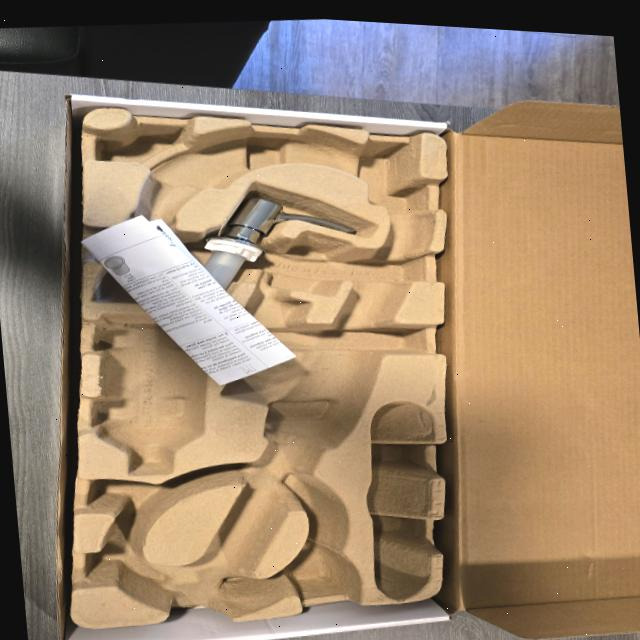1m: (100, 127, 432, 616)
2o: (188, 195, 356, 293)
3m: (100, 319, 204, 472)
4m: (366, 402, 432, 599)
5m: (289, 546, 355, 593)
6m: (79, 549, 167, 595)
7m: (89, 479, 179, 513)
8: (76, 214, 296, 384)
